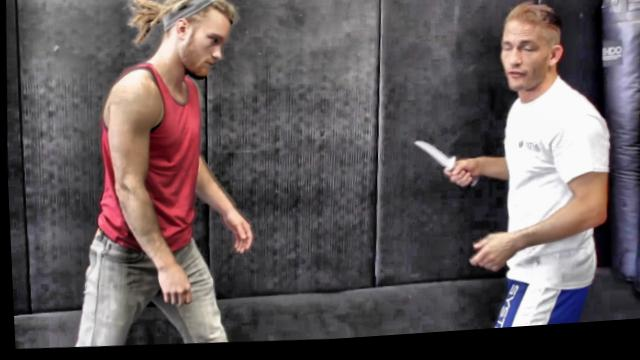knife: (406, 137, 482, 199)
